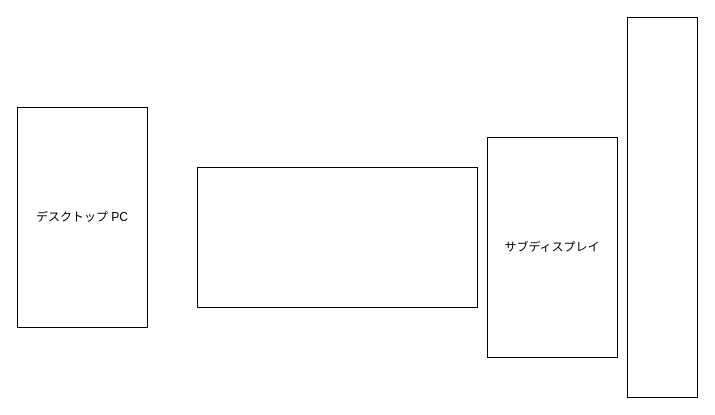
Image size: 715x415. Some labels were removed from this diagram. Here are the shapes that lost their labels. From the top down, the centre of each, then its label:
At pixel 662 207: "本棚".
At pixel 337 237: "メインディスプレイ".
